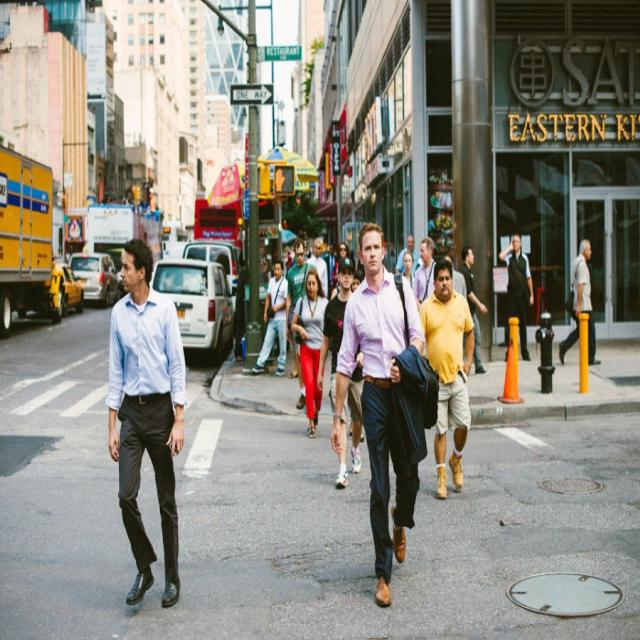body: (328, 219, 441, 612), (105, 238, 188, 609), (419, 258, 475, 500), (315, 254, 365, 491), (288, 265, 330, 440), (283, 235, 321, 412), (558, 238, 602, 368), (497, 229, 536, 363), (250, 259, 290, 376), (458, 245, 488, 375), (412, 234, 438, 311), (304, 237, 330, 300), (105, 193, 162, 220), (232, 251, 246, 347), (443, 252, 469, 300), (394, 232, 420, 277), (323, 242, 340, 304), (331, 240, 350, 290), (400, 249, 416, 290), (292, 332, 300, 380), (350, 268, 364, 293), (68, 217, 82, 239)
